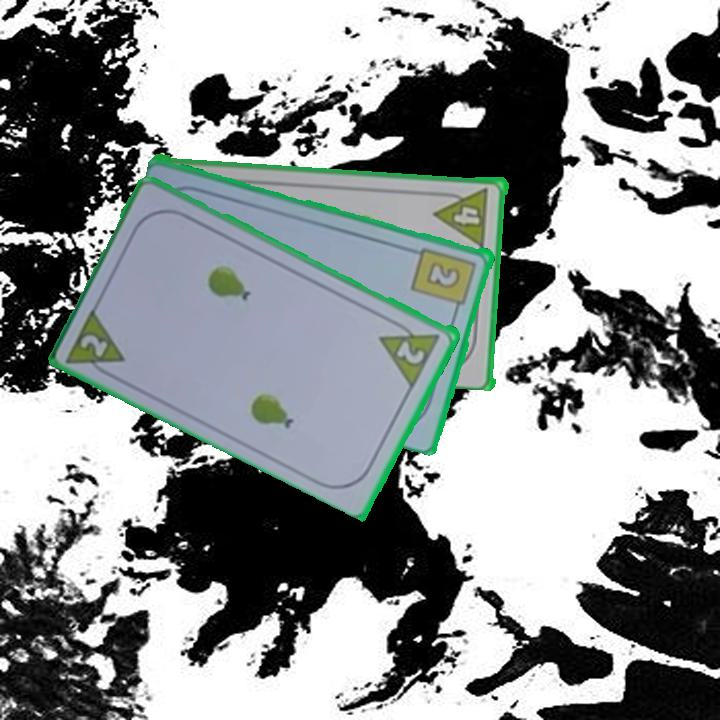2b: (409, 243, 480, 316)
2p: (63, 303, 130, 383), (393, 337, 429, 367)
4p: (433, 183, 492, 249)
